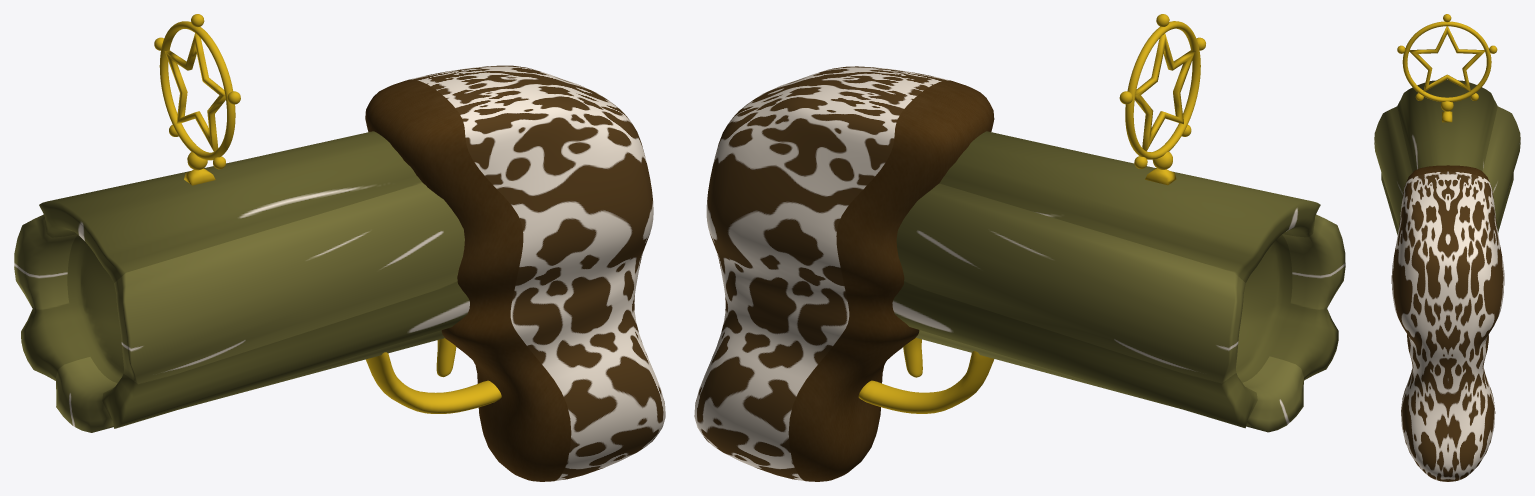
The model's file is Pistola.fbx.
3 views of the same model, side by side, from view 1: azimuth 30°, elevation 25°; view 2: azimuth 150°, elevation 25°; view 3: azimuth 270°, elevation 25° (orthographic). The views are drawn at different scales.
Parts seen in each view (by area): view 1: mango+mirilla; view 2: mango+mirilla; view 3: mango+mirilla.
Boxes of the visible parts, left/top/right/bottom form: mango+mirilla: left=14, top=14, right=665, bottom=481; mango+mirilla: left=694, top=14, right=1345, bottom=481; mango+mirilla: left=1374, top=14, right=1520, bottom=481.
Bounding box in the file's own units: 252 × 229 × 88.07.
